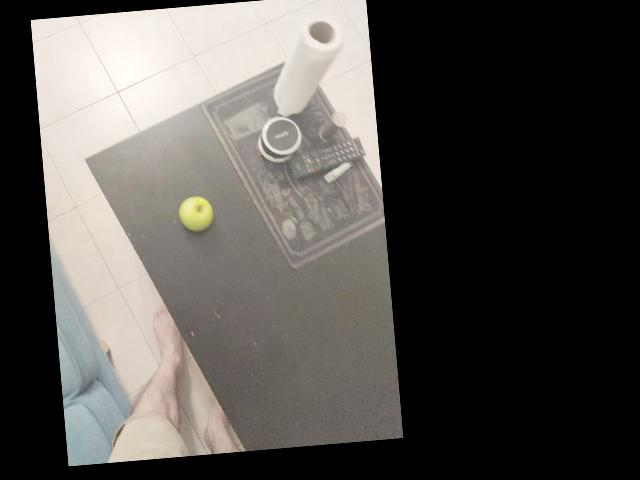apple: (141, 136, 192, 182)
